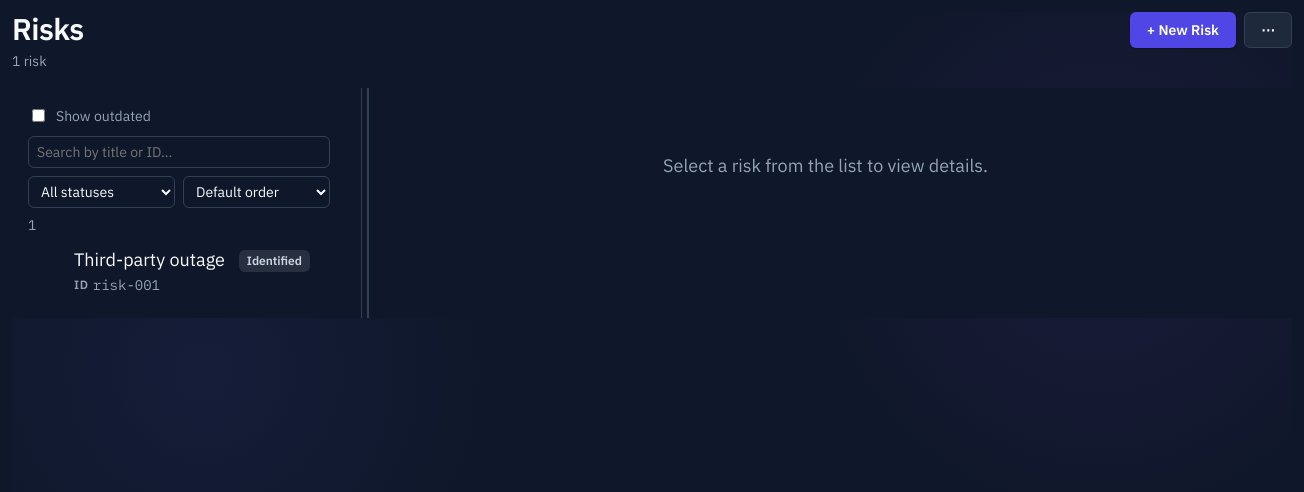
Test: RiskEditors — include_deleted reveals outdated risks (D6) › reveals and badges the outdated risk only after the toggle is on
This screenshot has width=1304, height=492.
Click the checkbox with test id "risk-list-include-deleted": x=38, y=116 top-left (32, 109), bottom-right (45, 122)
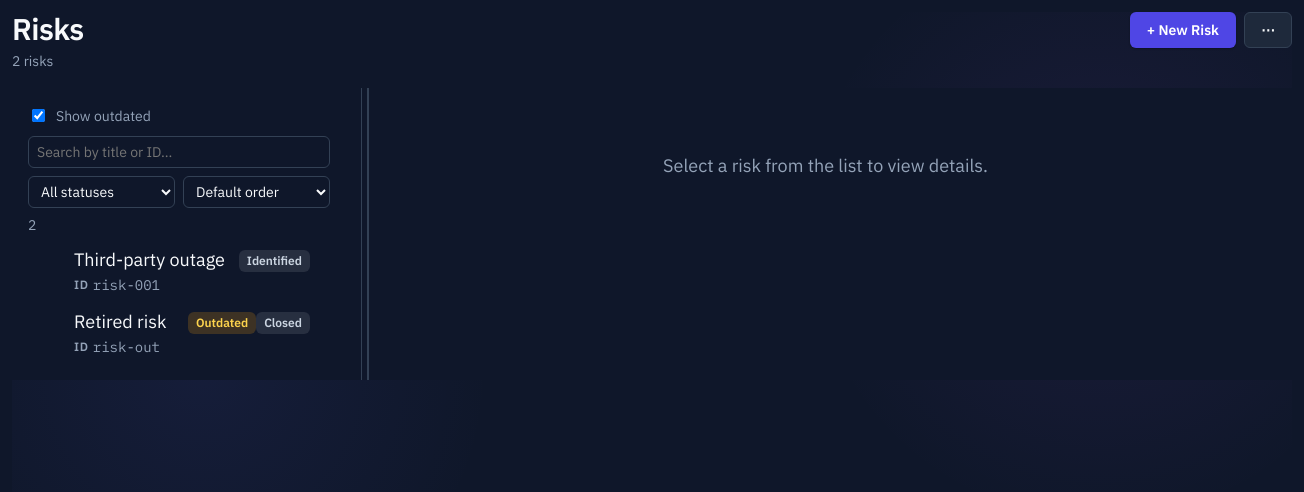
Expected: the element with test id "risk-row-risk-outdated-1" is shown, top-left (59, 304), bottom-right (322, 364)
Expected: the text "Outdated" is shown, top-left (188, 312), bottom-right (256, 334)
